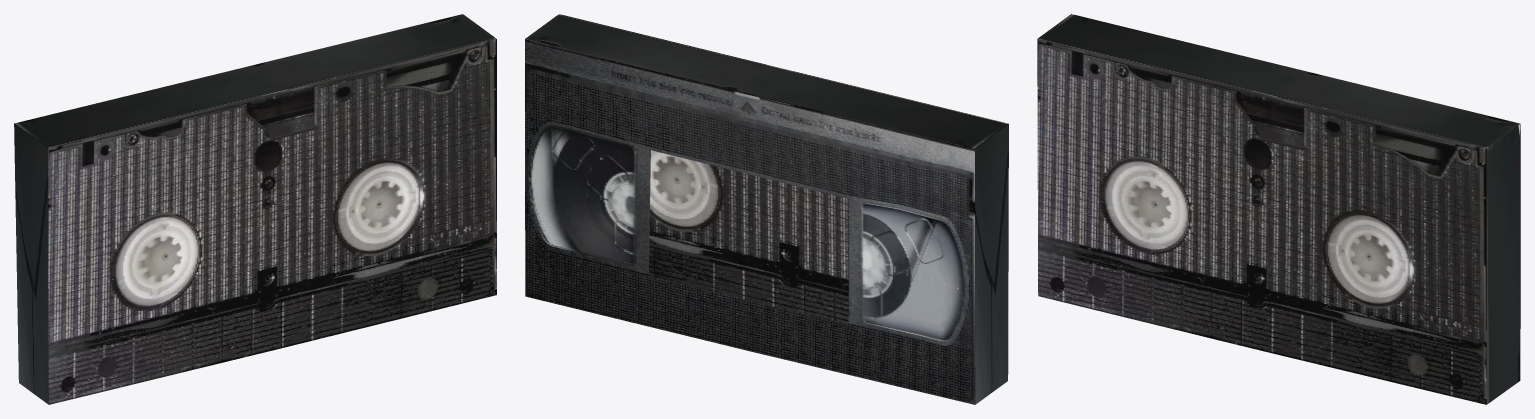
File: vhs-transformed.glb
The picture shows the model from 3 angles, left to right: view 1: azimuth 30°, elevation 25°; view 2: azimuth 150°, elevation 25°; view 3: azimuth 330°, elevation 25°; orthographic projection.
Parts seen in each view (by area): view 1: vhs; view 2: vhs; view 3: vhs.
Boxes of the visible parts, <box> form: vhs: <box>14,14,496,404</box>; vhs: <box>525,14,1008,404</box>; vhs: <box>1037,14,1520,404</box>.
Size of the model in its own units: 8.87 by 4.87 by 1.16.
Materials: 1 (1 with a texture image).
